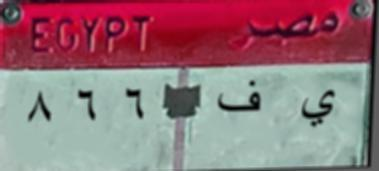6: (68, 81, 102, 133), (116, 81, 153, 128)
8: (21, 84, 60, 136)
faa: (210, 78, 267, 127)
yaa: (294, 82, 343, 135)
